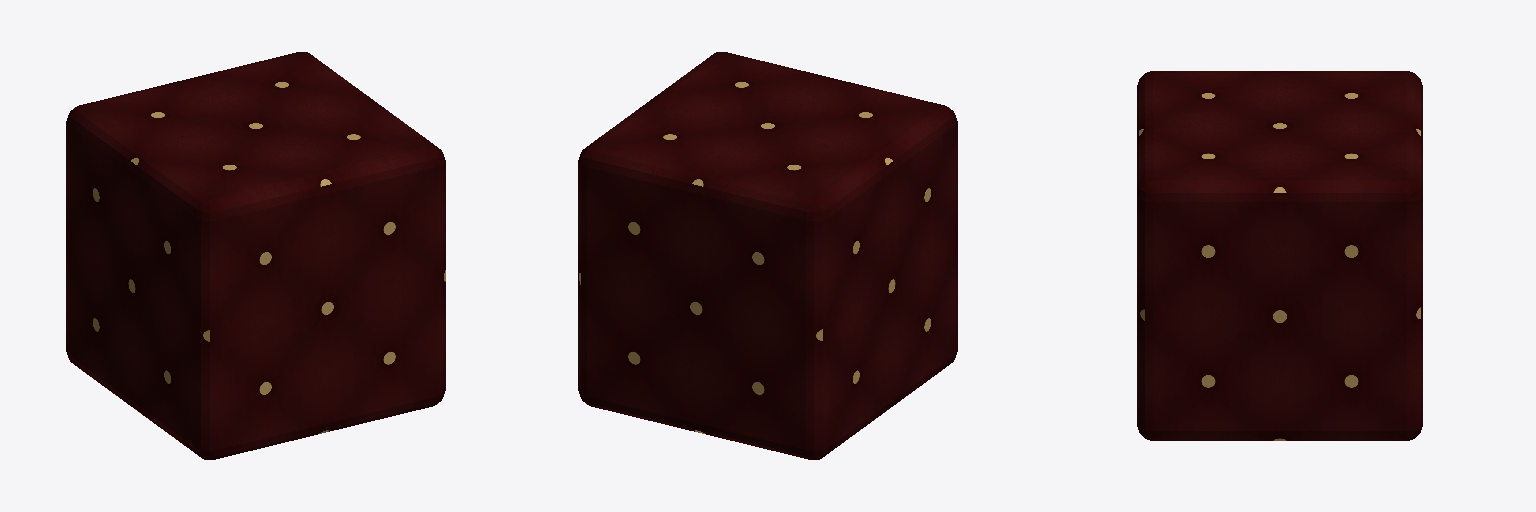
3 views of the same model, side by side, from view 1: azimuth 30°, elevation 25°; view 2: azimuth 150°, elevation 25°; view 3: azimuth 270°, elevation 25° (orthographic).
Visible parts, largest first — view 1: ChamferBox001; view 2: ChamferBox001; view 3: ChamferBox001.
Part boxes in pixels (bbox=[...]): ChamferBox001: bbox=[66, 52, 445, 459]; ChamferBox001: bbox=[578, 52, 957, 459]; ChamferBox001: bbox=[1137, 71, 1422, 440].
Bounding box in the file's own units: 2.3 × 2.3 × 2.3.
Materials: 1 (1 with a texture image).